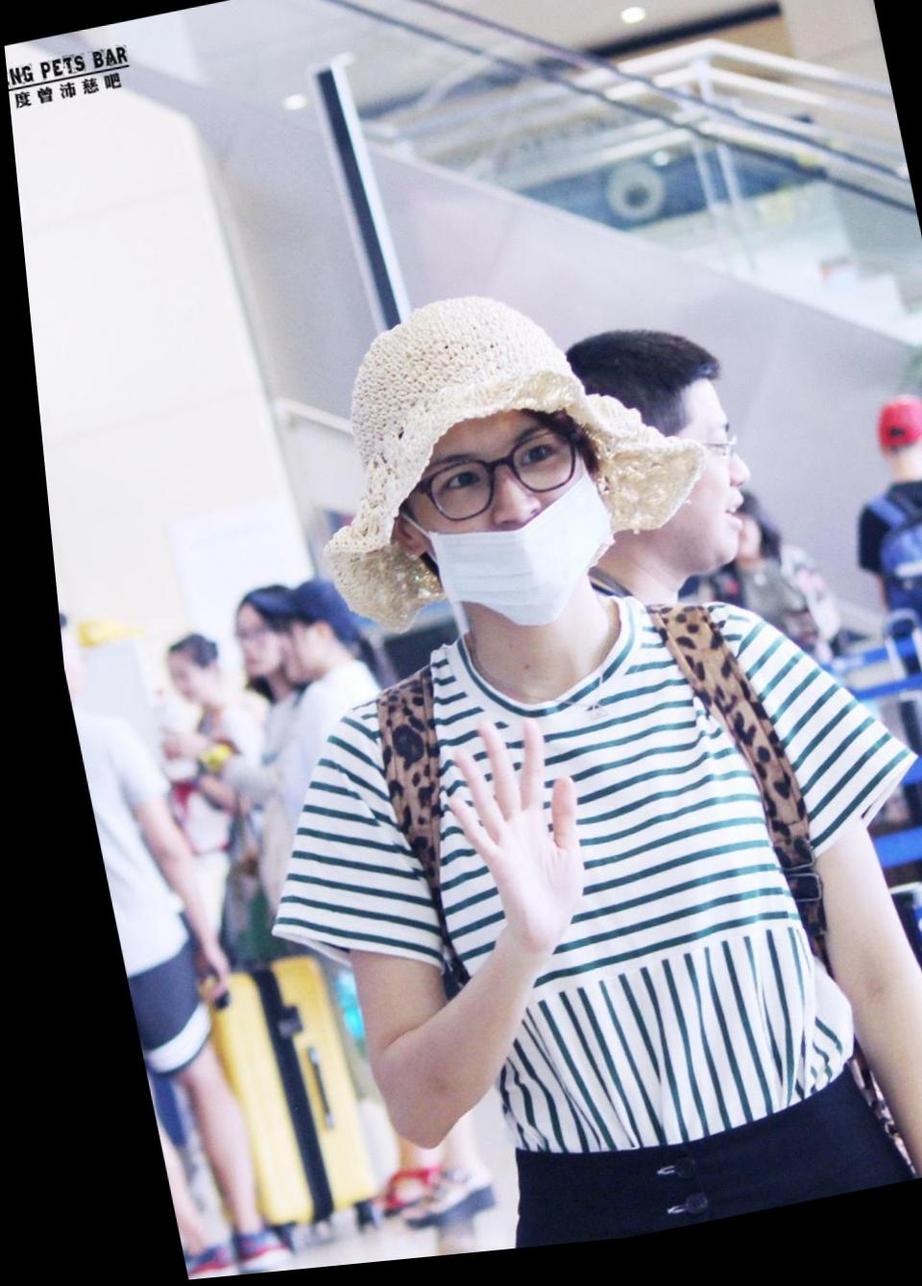NONE: (605, 428, 759, 595), (257, 624, 312, 688), (217, 622, 270, 686), (155, 661, 197, 710)
WRONG: (388, 411, 623, 646)
